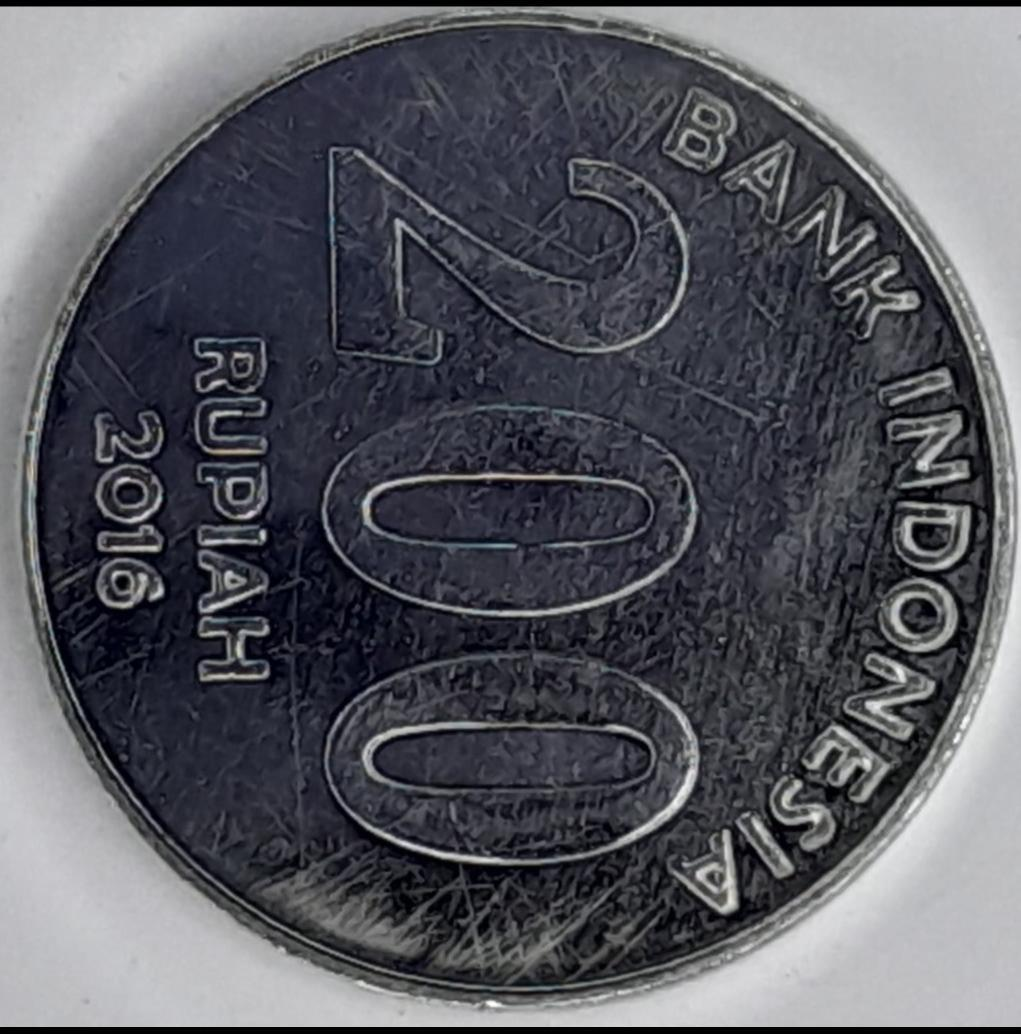coin_200_e2016: (0, 18, 1021, 1034)
